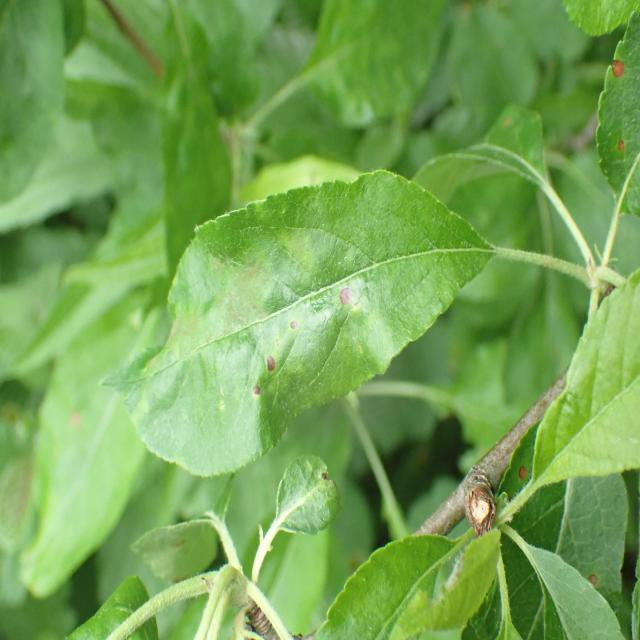Black Rot: (504, 449, 536, 496), (578, 558, 608, 602), (602, 52, 634, 89), (610, 127, 629, 179)
scab: (143, 204, 395, 458)
